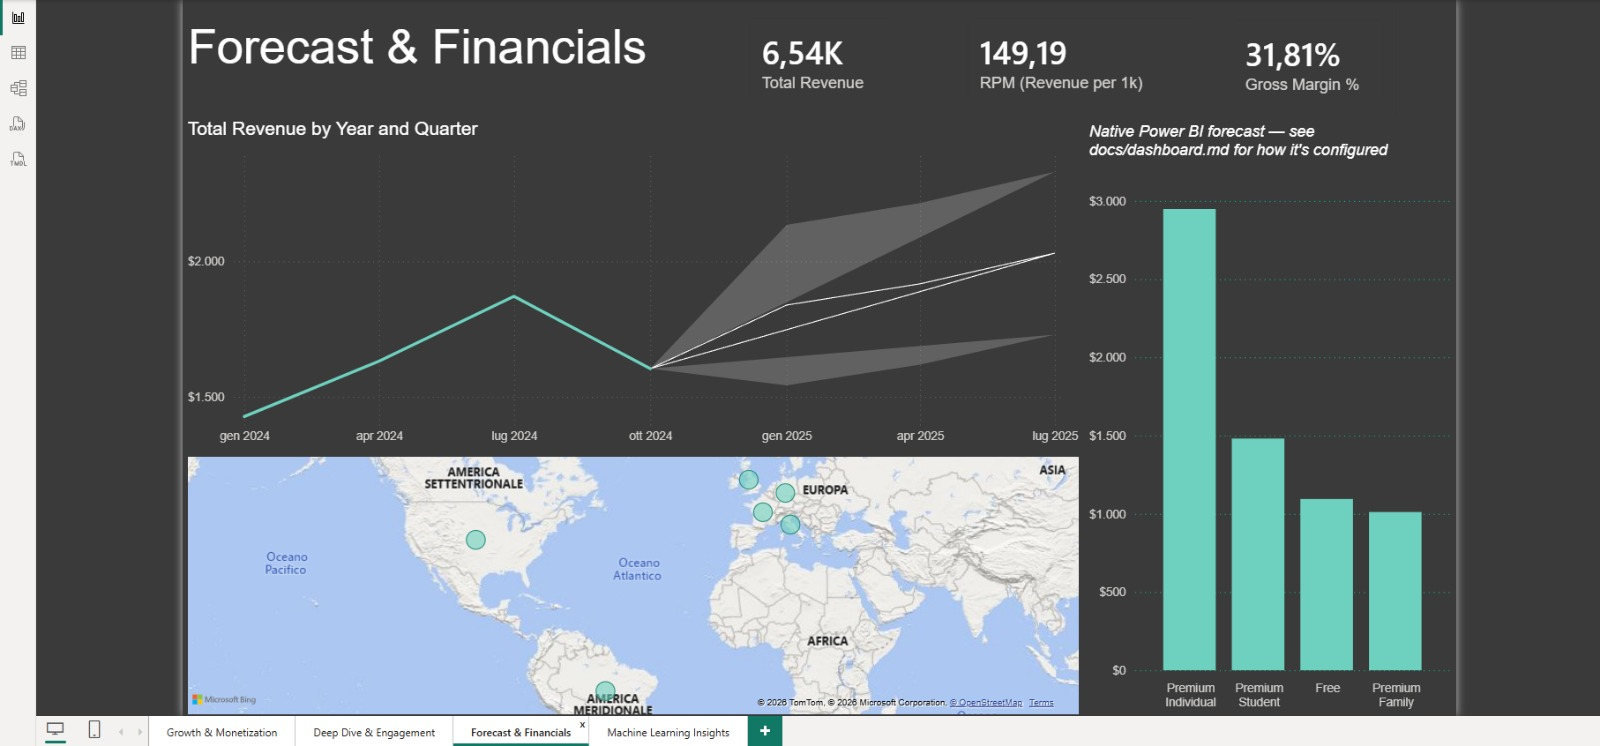

Layout of this report page (visuals, bound fields, positions):
{"tool":"powerbi","page":{"name":"Forecast & Financials","canvas":[1280,720],"ordinal":2},"visuals":[{"type":"cardVisual","fields":{"Data":["F_Streams.Total Revenue"]},"box":[552.3,0,176.7,120.1],"z":0},{"type":"cardVisual","fields":{"Data":["F_Streams.Gross Margin %"]},"box":[1038.4,1.4,186.4,120.1],"z":1},{"type":"cardVisual","fields":{"Data":["F_Streams.RPM (Revenue per 1k)"]},"box":[771.9,0,266.5,120.1],"z":2},{"type":"lineChart","fields":{"Category":["D_Time.time_key.Variation.Date Hierarchy.Year","D_Time.time_key.Variation.Date Hierarchy.Quarter","D_Time.time_key.Variation.Date Hierarchy.Month","D_Time.time_key.Variation.Date Hierarchy.Day"],"Y":["F_Streams.Total Revenue"]},"box":[0,118.7,905.8,335.5],"z":3},{"type":"columnChart","fields":{"Category":["D_Users.subscription_plan"],"Y":["F_Streams.Total Revenue"]},"box":[905.8,187.8,374.2,533],"z":4},{"type":"textbox","box":[0,0,507.4,119.8],"z":5},{"type":"map","fields":{"Category":["D_Users.country"],"Size":["F_Streams.Total Revenue"]},"box":[0,454.3,905.8,269.3],"z":6},{"type":"textbox","box":[905.8,118.7,379.7,69],"z":7}]}

Visuals, with their boxes on the page's 1280x720 design canvas (x1, y1, x2, y2). These are canvas units, not pixel positions in the 1600x746 screenshot, which may show the page scaled, cropped or inside an application window:
cardVisual - F_Streams.Total Revenue: region(552, 0, 729, 120)
cardVisual - F_Streams.Gross Margin %: region(1038, 1, 1225, 122)
cardVisual - F_Streams.RPM (Revenue per 1k): region(772, 0, 1038, 120)
lineChart - D_Time.time_key.Variation.Date Hierarchy.Year x D_Time.time_key.Variation.Date Hierarchy.Quarter: region(0, 119, 906, 454)
columnChart - D_Users.subscription_plan x F_Streams.Total Revenue: region(906, 188, 1280, 721)
textbox: region(0, 0, 507, 120)
map - D_Users.country x F_Streams.Total Revenue: region(0, 454, 906, 724)
textbox: region(906, 119, 1286, 188)
